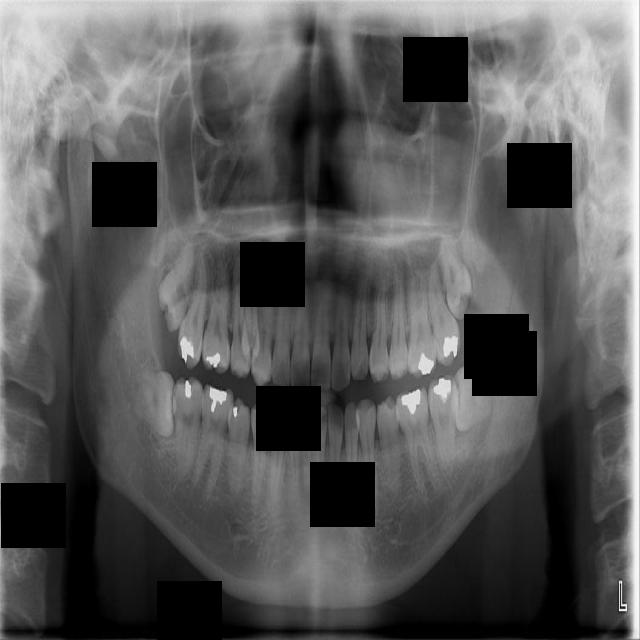3M ESPE Implant: (151, 231, 200, 335)
52: (194, 383, 237, 440), (391, 386, 436, 439), (173, 312, 207, 371), (421, 373, 463, 419), (431, 311, 463, 367), (199, 325, 233, 374), (171, 375, 206, 420), (407, 327, 436, 379), (227, 398, 250, 441)
73: (602, 592, 608, 602)
BioHorizons Implant: (424, 260, 464, 368)
BioLife Implant: (431, 232, 480, 322)
Biomet 3i Implant: (448, 365, 495, 434)
Blue Sky Bio Implant: (428, 375, 459, 477)
Caries: (174, 247, 213, 370)
Implant: (168, 376, 206, 483)
Keystone Dental Implant: (132, 367, 179, 439)
